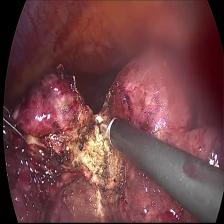Grasper: (5, 103, 33, 166)
Hook: (93, 115, 118, 152)
